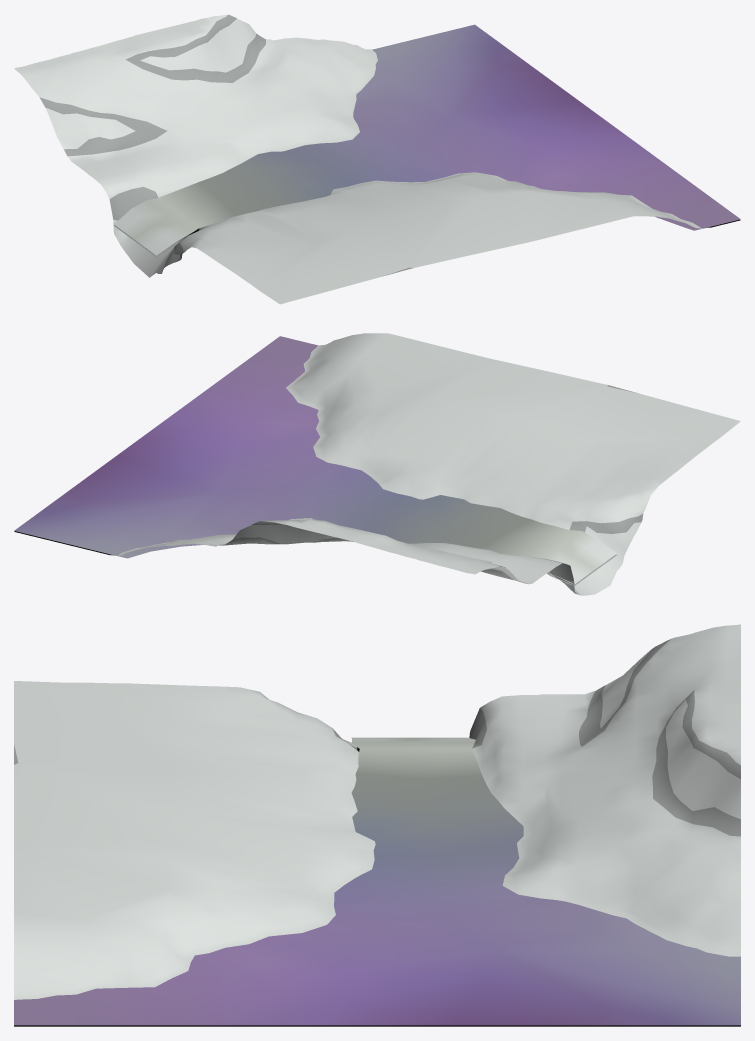
3 renders of one model, top to bottom at view 1: azimuth 30°, elevation 25°; view 2: azimuth 150°, elevation 25°; view 3: azimuth 270°, elevation 25°, orthographic. The views are drawn at different scales.
Parts seen in each view (by area): view 1: G:\FFXIV-MapTools\exports\r2f1\bg\ex1\01_roc_r2\fld\r2f1\bgp (×4); view 2: G:\FFXIV-MapTools\exports\r2f1\bg\ex1\01_roc_r2\fld\r2f1\bgp (×4); view 3: G:\FFXIV-MapTools\exports\r2f1\bg\ex1\01_roc_r2\fld\r2f1\bgp (×5).
Part boxes in pixels (left/top/right/bottom): G:\FFXIV-MapTools\exports\r2f1\bg\ex1\01_roc_r2\fld\r2f1\bgp (×4): left=14, top=14, right=740, bottom=304; G:\FFXIV-MapTools\exports\r2f1\bg\ex1\01_roc_r2\fld\r2f1\bgp (×4): left=14, top=333, right=740, bottom=595; G:\FFXIV-MapTools\exports\r2f1\bg\ex1\01_roc_r2\fld\r2f1\bgp (×5): left=14, top=624, right=740, bottom=1026.
Bounding box in the file's own units: 128 × 30.31 × 128.
